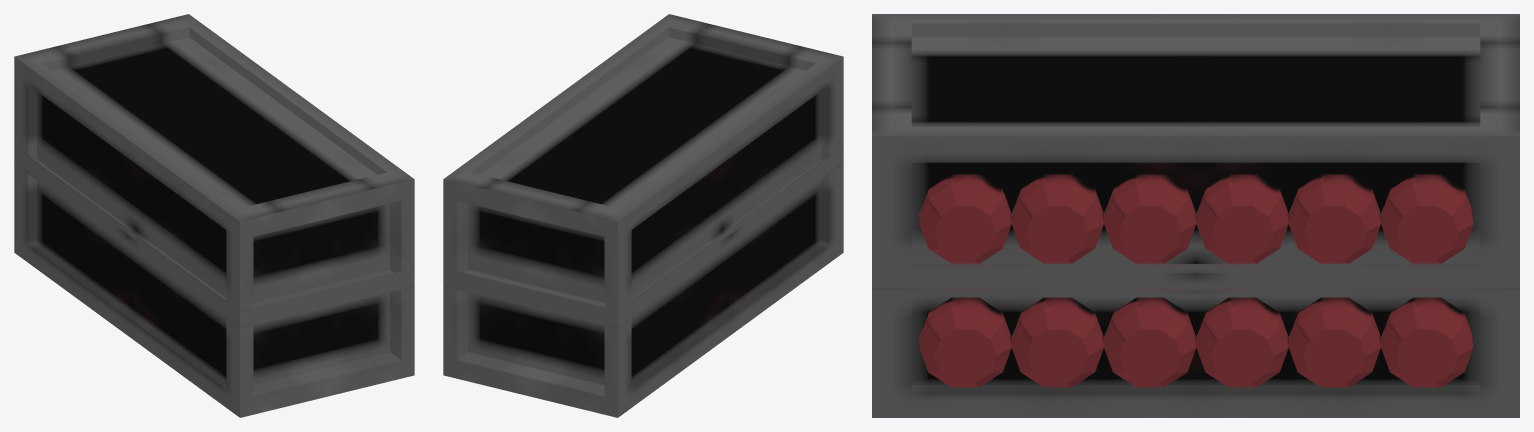
File: torpedo rack.glb
3 views of the same model, side by side, from view 1: azimuth 30°, elevation 25°; view 2: azimuth 150°, elevation 25°; view 3: azimuth 270°, elevation 25° (orthographic). The views are drawn at different scales.
Parts seen in each view (by area): view 1: Torpedo Rack; view 2: Torpedo Rack; view 3: Torpedo Rack.
Part boxes in pixels (x1=…): Torpedo Rack: x1=14, y1=14, x2=414, y2=417; Torpedo Rack: x1=443, y1=14, x2=843, y2=417; Torpedo Rack: x1=872, y1=14, x2=1519, y2=417.
Bounding box in the file's own units: 0.9855 × 0.9599 × 2.
1 material, 1 textured.
